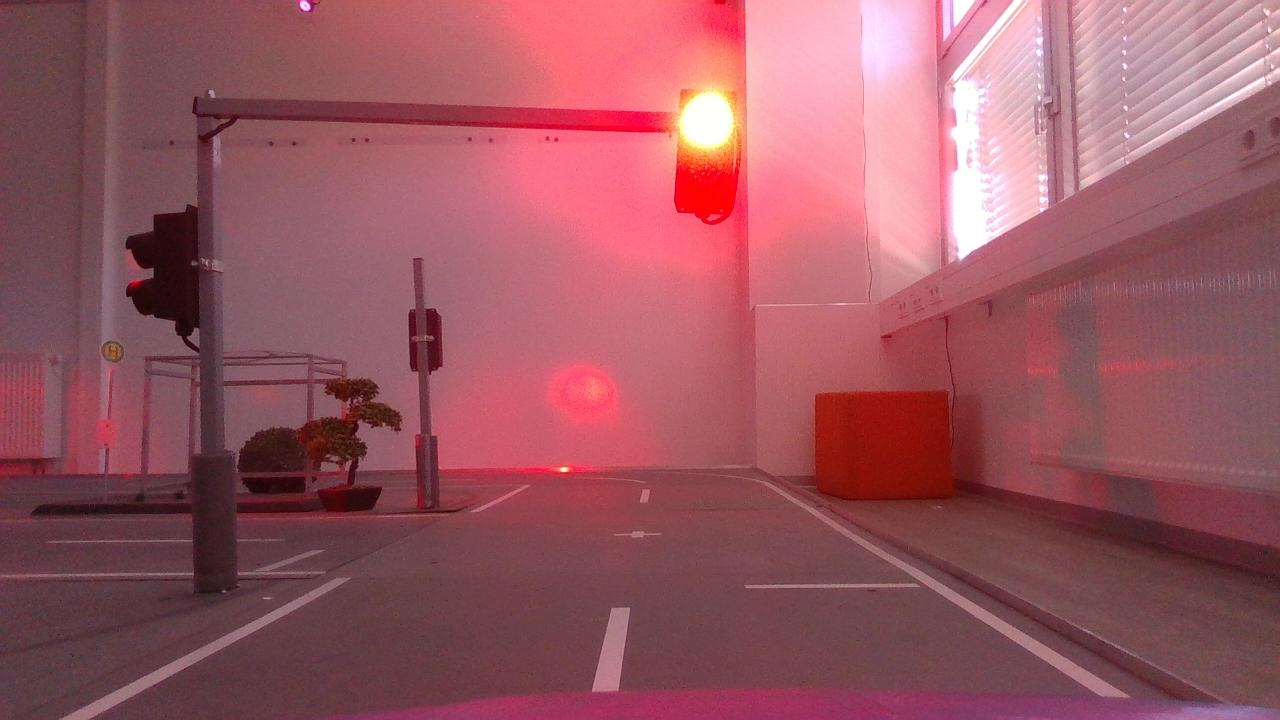traffic_light_red: (668, 62, 749, 234)
